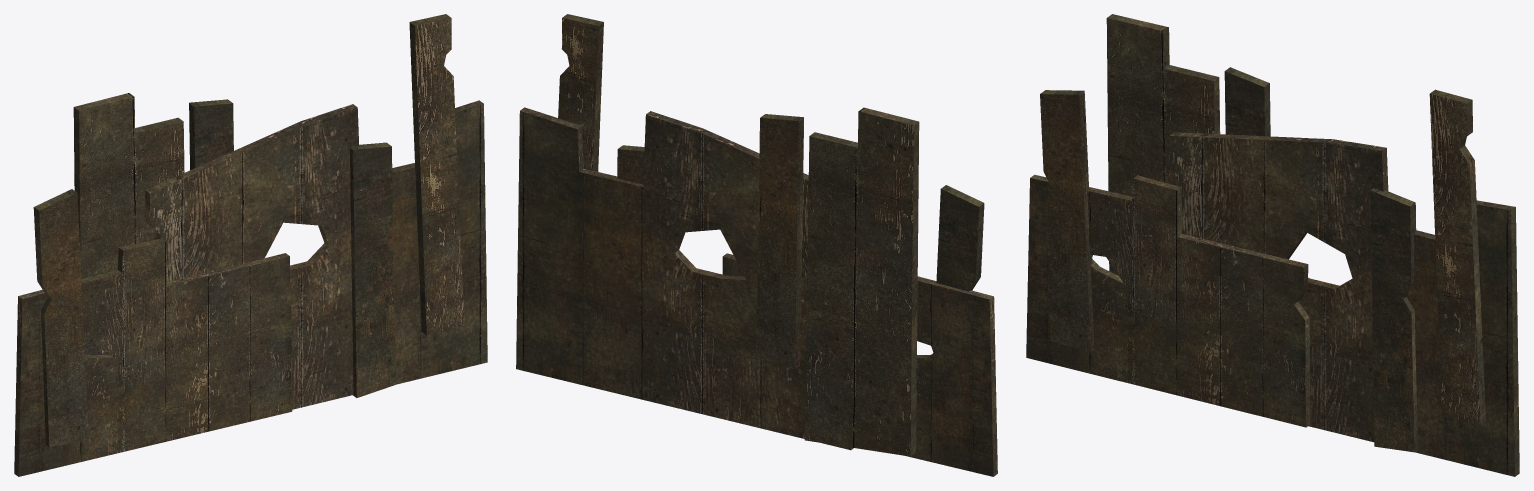
3 views of the same model, side by side, from view 1: azimuth 30°, elevation 25°; view 2: azimuth 150°, elevation 25°; view 3: azimuth 330°, elevation 25° (orthographic). The views are drawn at different scales.
Visible parts, largest first — view 1: woodwall4; view 2: woodwall4; view 3: woodwall4.
Boxes of the visible parts, x1=… form: woodwall4: x1=14, y1=14, x2=487, y2=476; woodwall4: x1=516, y1=14, x2=997, y2=476; woodwall4: x1=1026, y1=14, x2=1519, y2=476.
Size of the model in its own units: 4.13 by 3 by 0.2721.
1 material, 1 textured.
